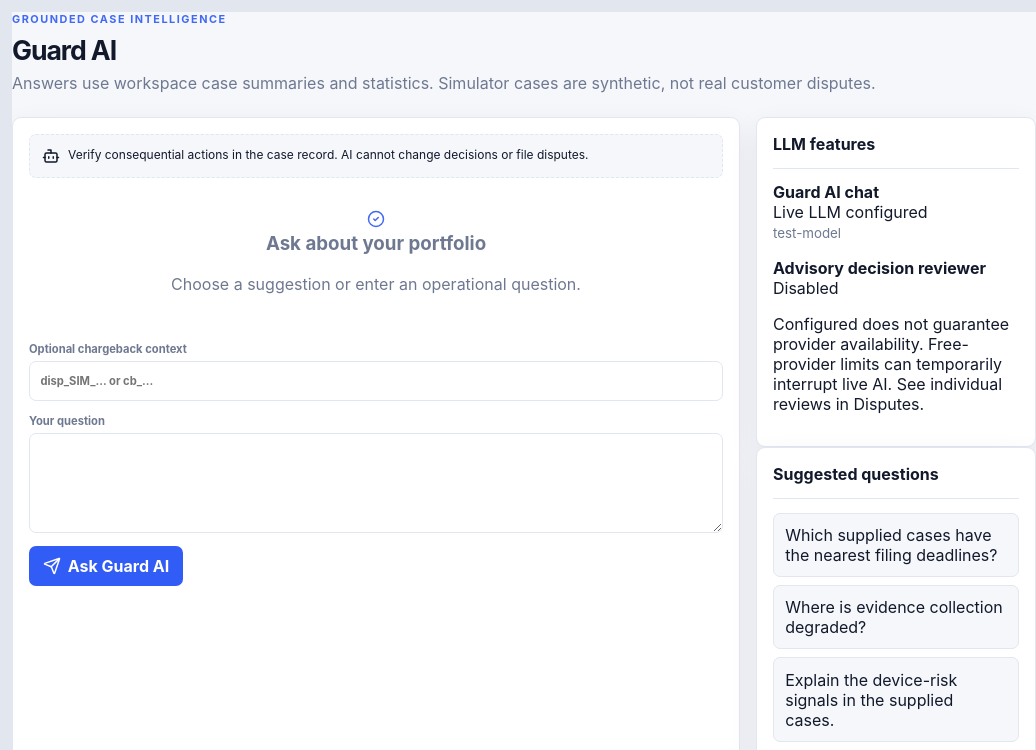
Test: shows configuration status and submits scoped chat questions
Expected: the text "Live LLM configured" is shown, [773,202,928,222]
Expected: the text "Disabled" is shown, [773,278,839,298]
Type "disp_SIM_demo" into the field labelled "Optional chargeback context" at (376, 381), box [29,361,723,401]
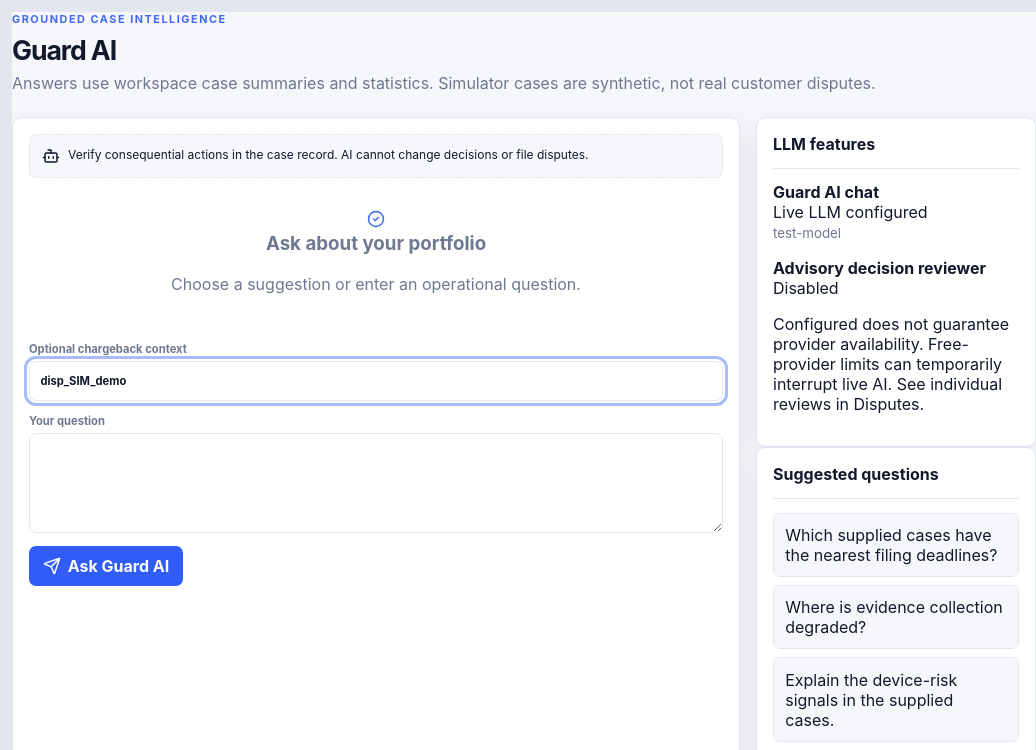
Click the button "Explain the device-risk signals in the supplied cases." at (896, 700), box [773,657,1019,742]
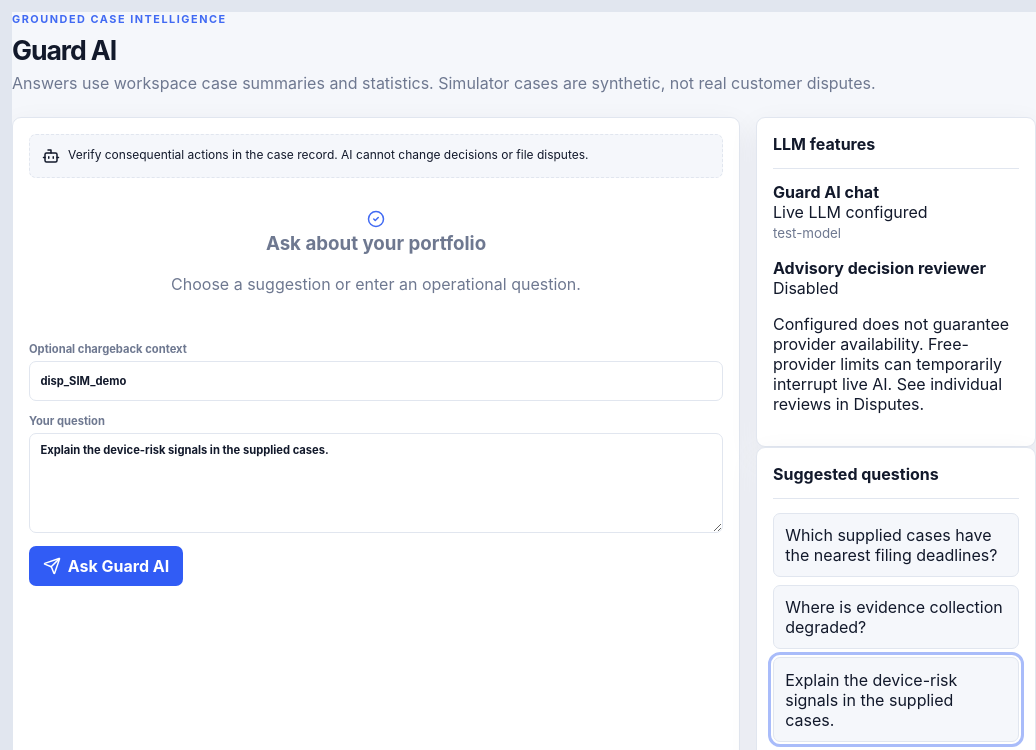
Click the button "Ask Guard AI" at (106, 566), box [29,546,183,586]
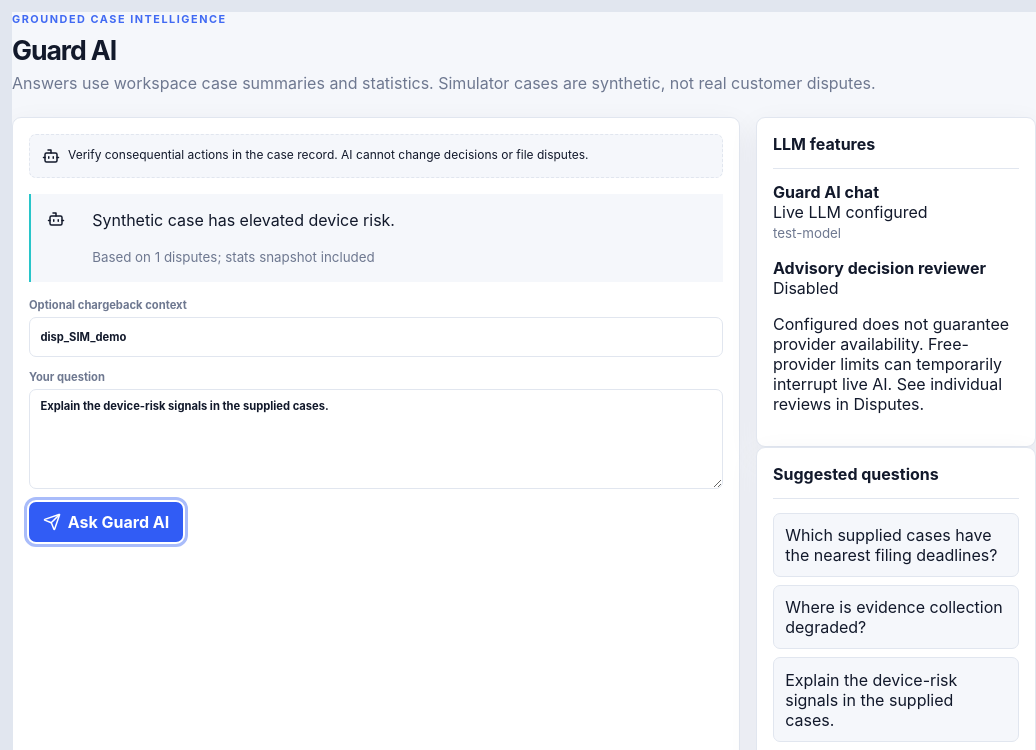
Result: the text "Synthetic case has elevated device risk." is shown at [92,210,395,230]
